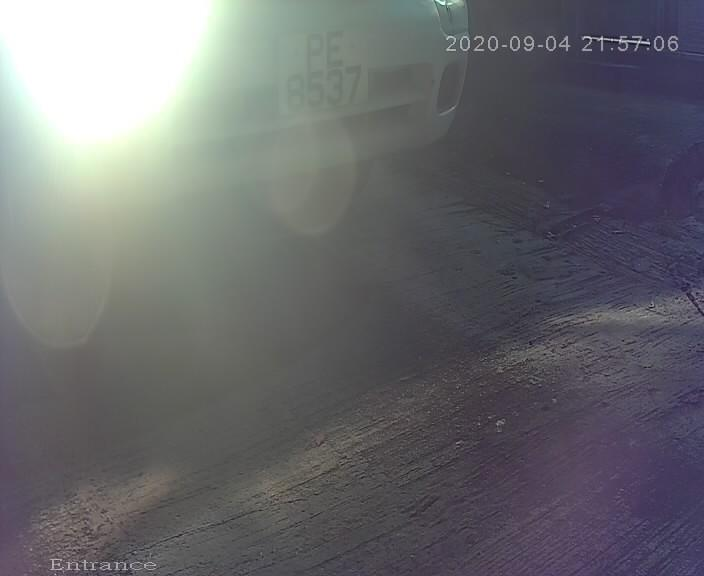Car: (29, 11, 620, 409)
License Plate: (263, 13, 383, 132)
